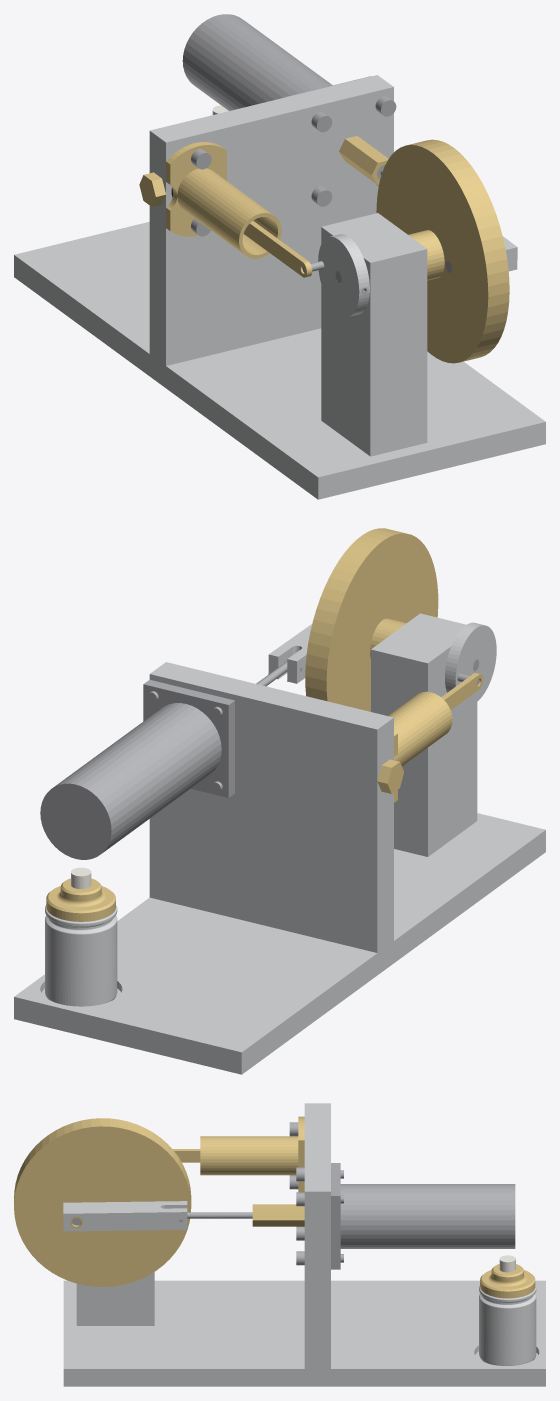
File: stirling-assembled.glb
3 renders of one model, top to bottom at view 1: azimuth 30°, elevation 25°; view 2: azimuth 150°, elevation 25°; view 3: azimuth 270°, elevation 25°, orthographic. The views are drawn at different scales.
Parts seen in each view (by area): view 1: aluminum, brass, steel; view 2: aluminum, brass, steel; view 3: aluminum, brass, steel.
Part boxes in pixels (x1=…): aluminum: x1=14, y1=75, x2=545, y2=499; brass: x1=139, y1=136, x2=509, y2=363; steel: x1=182, y1=14, x2=451, y2=293; aluminum: x1=14, y1=613, x2=545, y2=1074; brass: x1=46, y1=528, x2=483, y2=921; steel: x1=40, y1=659, x2=479, y2=859; aluminum: x1=63, y1=1103, x2=545, y2=1386; brass: x1=14, y1=1116, x2=535, y2=1298; steel: x1=71, y1=1122, x2=515, y2=1269.
Size of the model in its own units: 0.1062 by 0.1257 by 0.2591.
